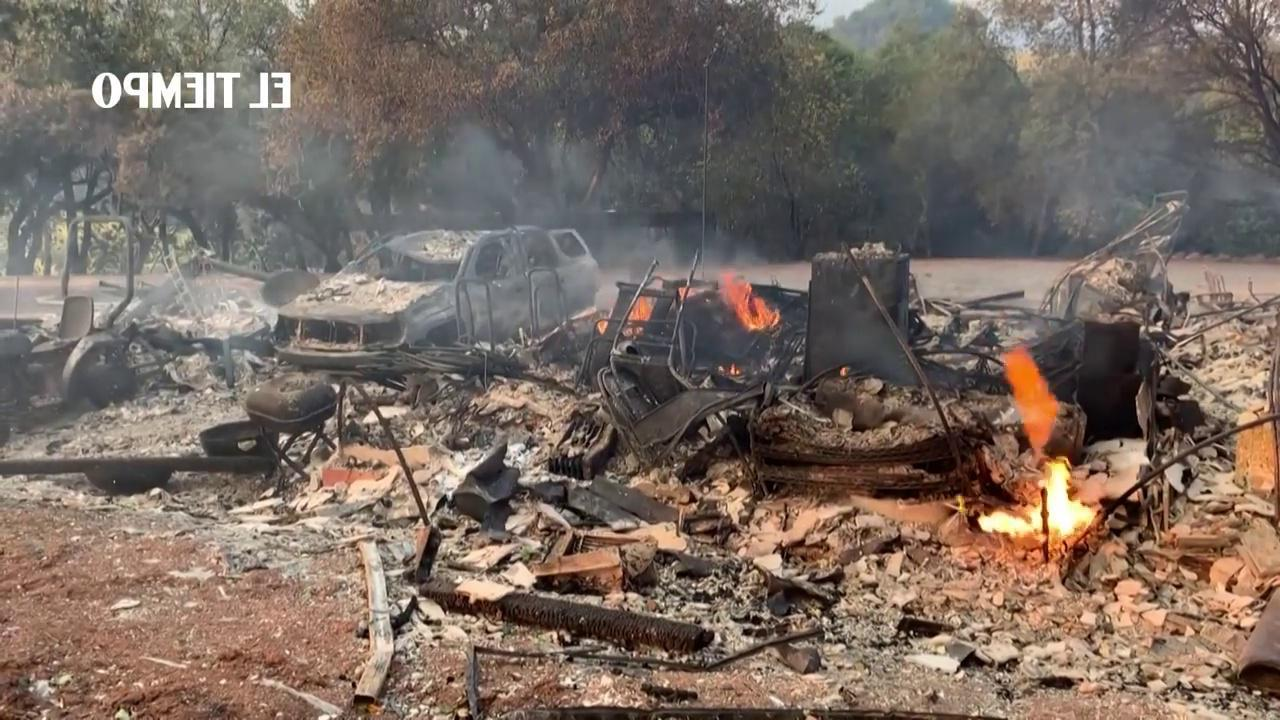Fire: (982, 350, 1075, 455), (976, 464, 1099, 535), (722, 269, 783, 331)
